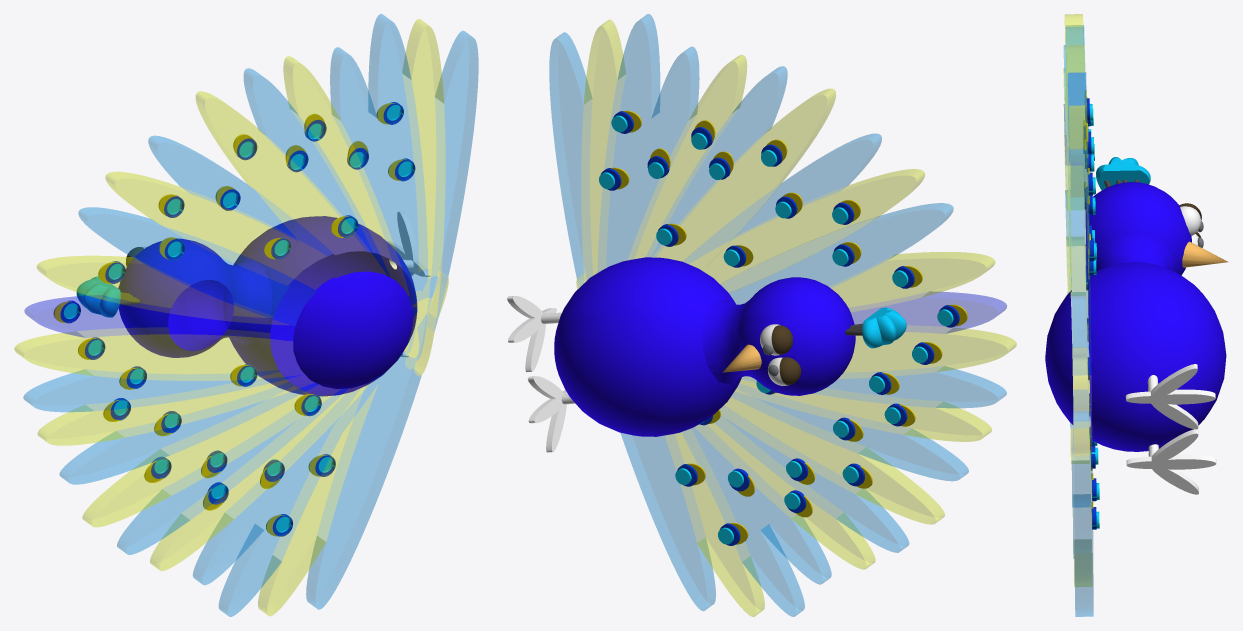
File: peacock.fbx
The picture shows the model from 3 angles, left to right: view 1: azimuth 30°, elevation 25°; view 2: azimuth 150°, elevation 25°; view 3: azimuth 270°, elevation 25°; orthographic projection.
Visible parts, largest first — view 1: Peacock; view 2: Peacock; view 3: Peacock.
Boxes of the visible parts, x1,y1,x2,y2 form: Peacock: (14,14,478,616); Peacock: (507,14,1016,616); Peacock: (1045,14,1228,616).
Size of the model in its own units: 104 by 125 by 36.16.
